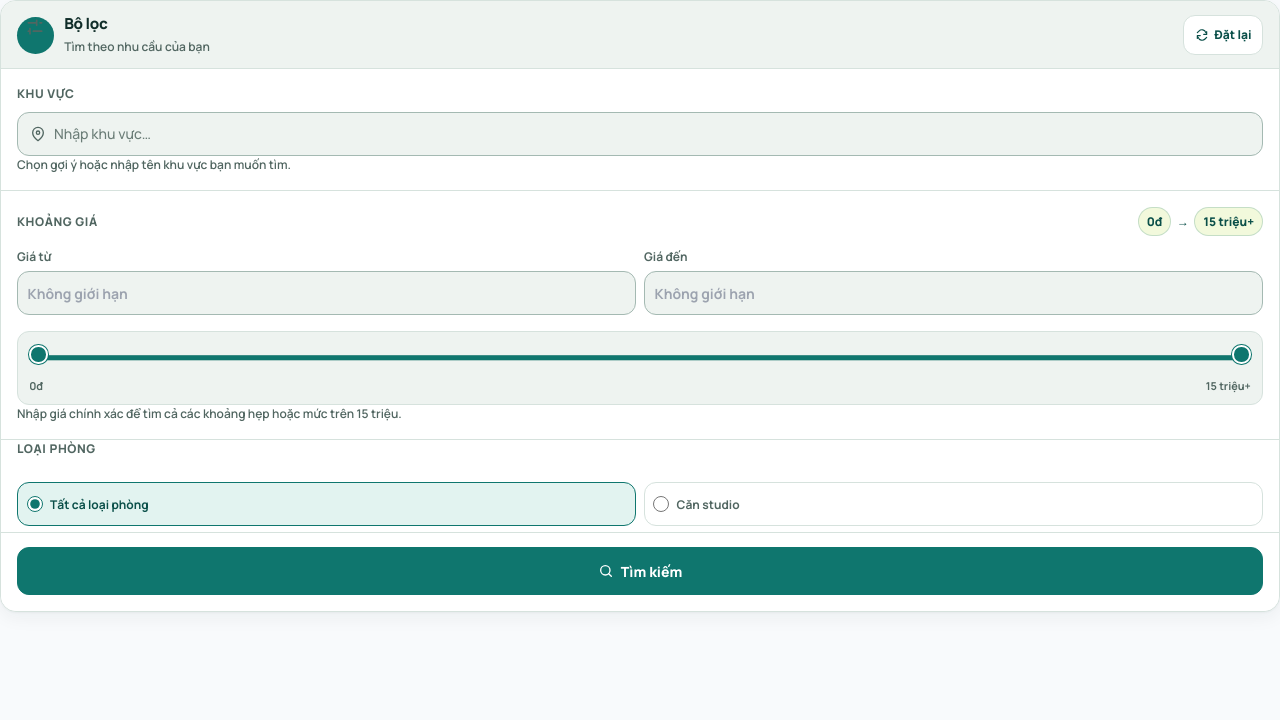
Test: SearchFilters › shows a validation error instead of applying an inverted budget range
Type "6000000" into the number field named "Giá tối thiểu chính xác". click: (326, 293)
box: [17,271,636,315]
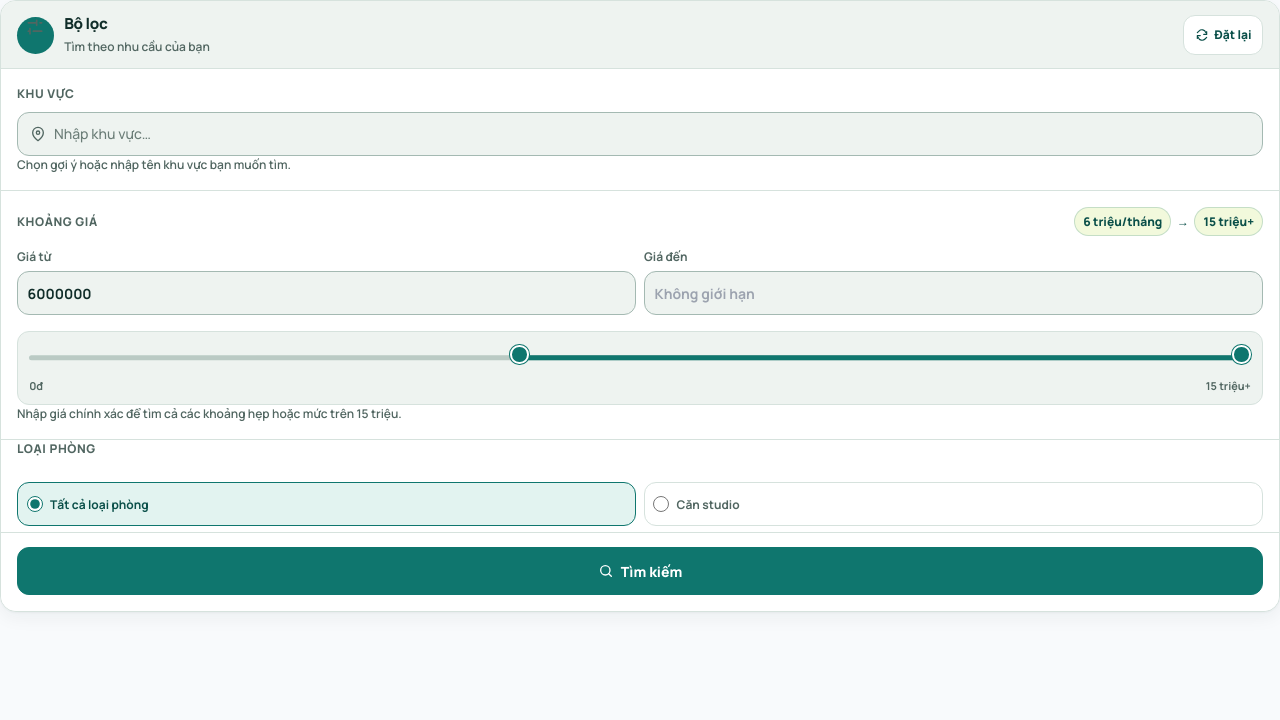
Type "5000000" into the number field named "Giá tối đa chính xác". click: (954, 293)
box: [644,271,1263,315]
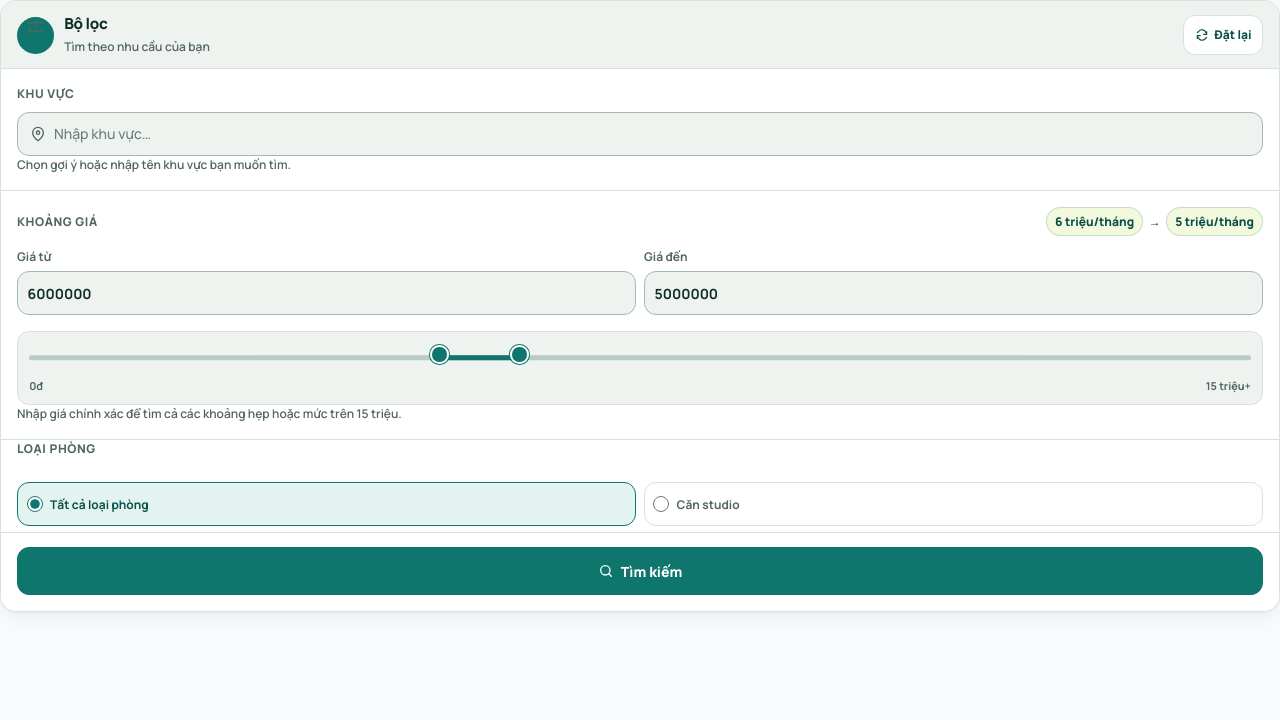
Click the button "Tìm kiếm". click: (640, 571)
box: [17,547,1263,595]
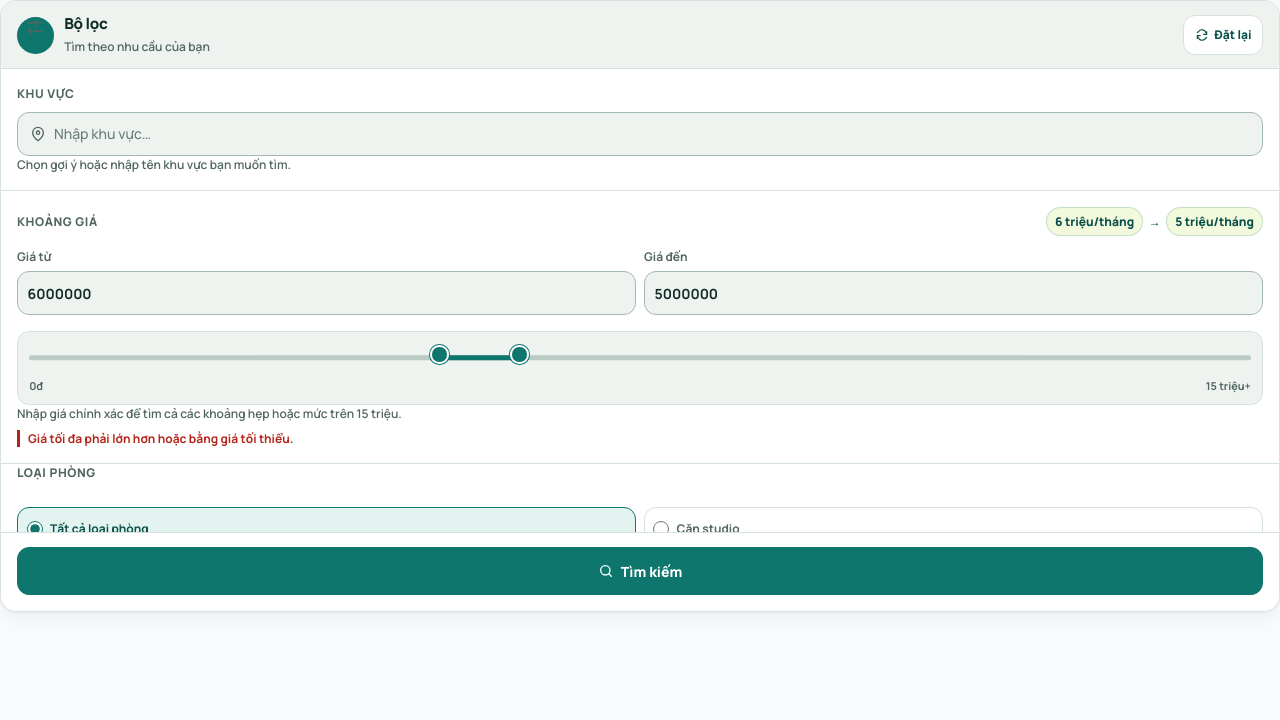
expect the text "Giá tối đa phải lớn hơn hoặc bằng giá tối thiểu." is shown: met, box [17,430,1263,447]
